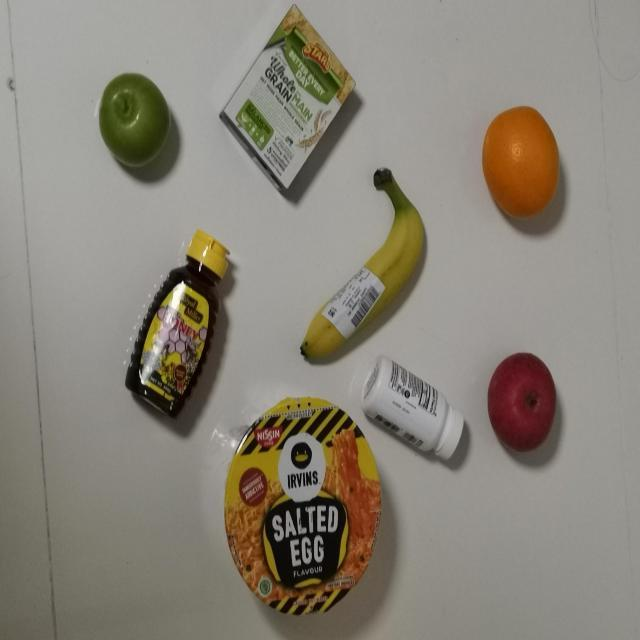Apple: (95, 68, 168, 168), (485, 351, 558, 451)
Banana: (301, 171, 427, 365)
Cerealbox: (219, 1, 366, 188)
Orange: (480, 105, 564, 229)
